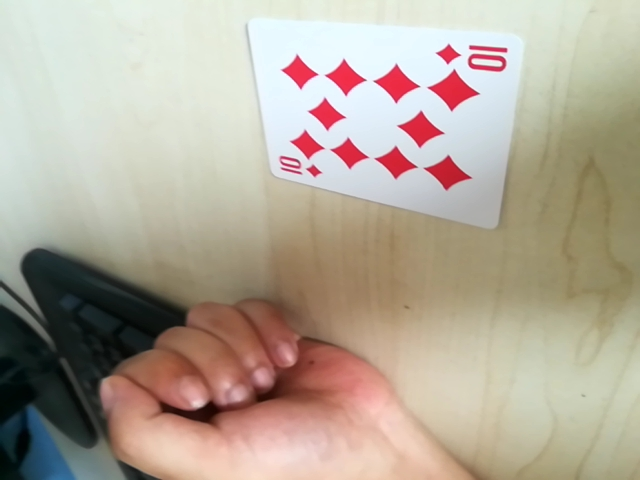fk 10: (435, 33, 512, 73), (271, 151, 324, 184)
